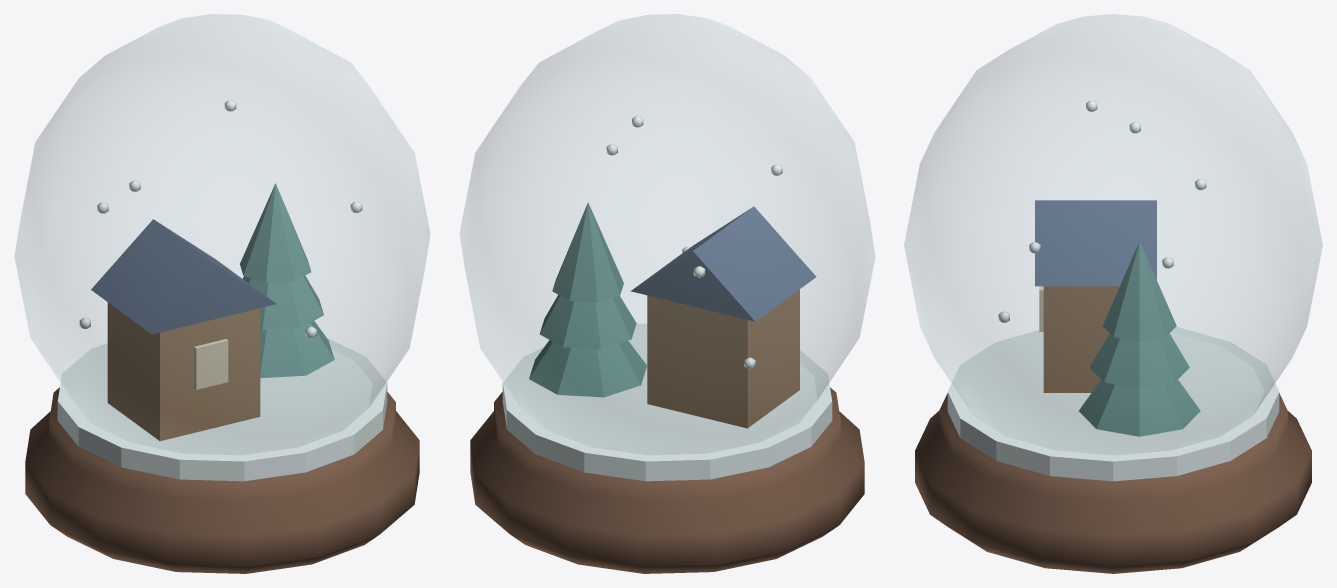
File: snow_globe.glb
The picture shows the model from 3 angles, left to right: view 1: azimuth 30°, elevation 25°; view 2: azimuth 150°, elevation 25°; view 3: azimuth 270°, elevation 25°; orthographic projection.
Parts seen in each view (by area): view 1: Glass globe, Turned walnut base, Snow bed, Tiny house, Slate pitched roof, Pine boughs.002, Pine boughs, Pine boughs.001, Warm tiny window; view 2: Glass globe, Turned walnut base, Snow bed, Tiny house, Slate pitched roof, Pine boughs, Pine boughs.002, Pine boughs.001; view 3: Glass globe, Turned walnut base, Snow bed, Slate pitched roof, Tiny house, Pine boughs, Pine boughs.002, Pine boughs.001.
Boxes of the visible parts, bbox=[...] form: Glass globe: bbox=[15, 14, 430, 454]; Turned walnut base: bbox=[25, 387, 419, 573]; Snow bed: bbox=[57, 338, 387, 481]; Tiny house: bbox=[107, 302, 260, 441]; Slate pitched roof: bbox=[91, 219, 276, 334]; Pine boughs.002: bbox=[240, 183, 311, 283]; Pine boughs: bbox=[260, 321, 334, 378]; Pine boughs.001: bbox=[242, 275, 323, 330]; Warm tiny window: bbox=[194, 339, 228, 389]; Glass globe: bbox=[459, 14, 874, 454]; Turned walnut base: bbox=[470, 387, 864, 573]; Snow bed: bbox=[502, 323, 832, 481]; Tiny house: bbox=[647, 289, 799, 428]; Slate pitched roof: bbox=[631, 206, 816, 321]; Pine boughs: bbox=[529, 340, 646, 397]; Pine boughs.002: bbox=[552, 202, 623, 302]; Pine boughs.001: bbox=[539, 295, 636, 349]; Glass globe: bbox=[904, 14, 1322, 454]; Turned walnut base: bbox=[915, 393, 1311, 573]; Snow bed: bbox=[947, 326, 1279, 481]; Slate pitched roof: bbox=[1035, 200, 1156, 286]; Tiny house: bbox=[1043, 286, 1119, 392]; Pine boughs: bbox=[1079, 379, 1200, 436]; Pine boughs.002: bbox=[1102, 241, 1176, 341]; Pine boughs.001: bbox=[1089, 333, 1189, 388].
Size of the model in its own units: 0.192 by 0.236 by 0.192.
